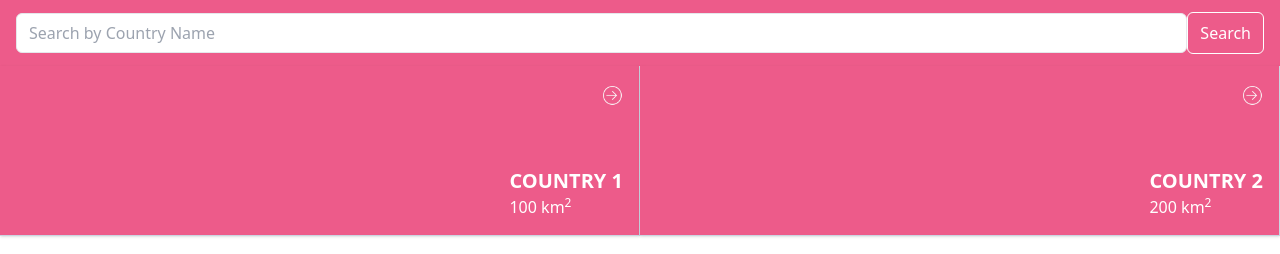
Test: Countries component › renders the component and filters countries
The image size is (1280, 254).
Expected: the form with test id "search-form" is shown, [16,12,1264,54]
Expected: the heading "Country 1" is shown, [510,167,623,195]
// Simulate search query
Type "country 1" into the field with test id "search-input" at (602, 33), box [16,13,1187,53]
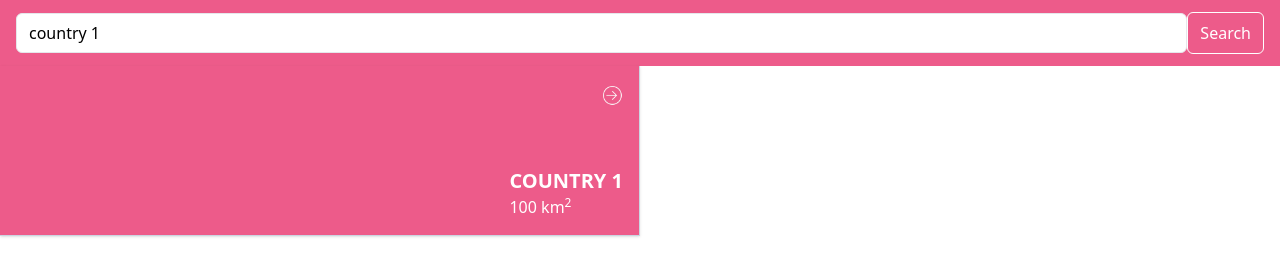
Expected: the heading "Country 1" is shown, [510,167,623,195]
Now the link "Country 2" is gone
